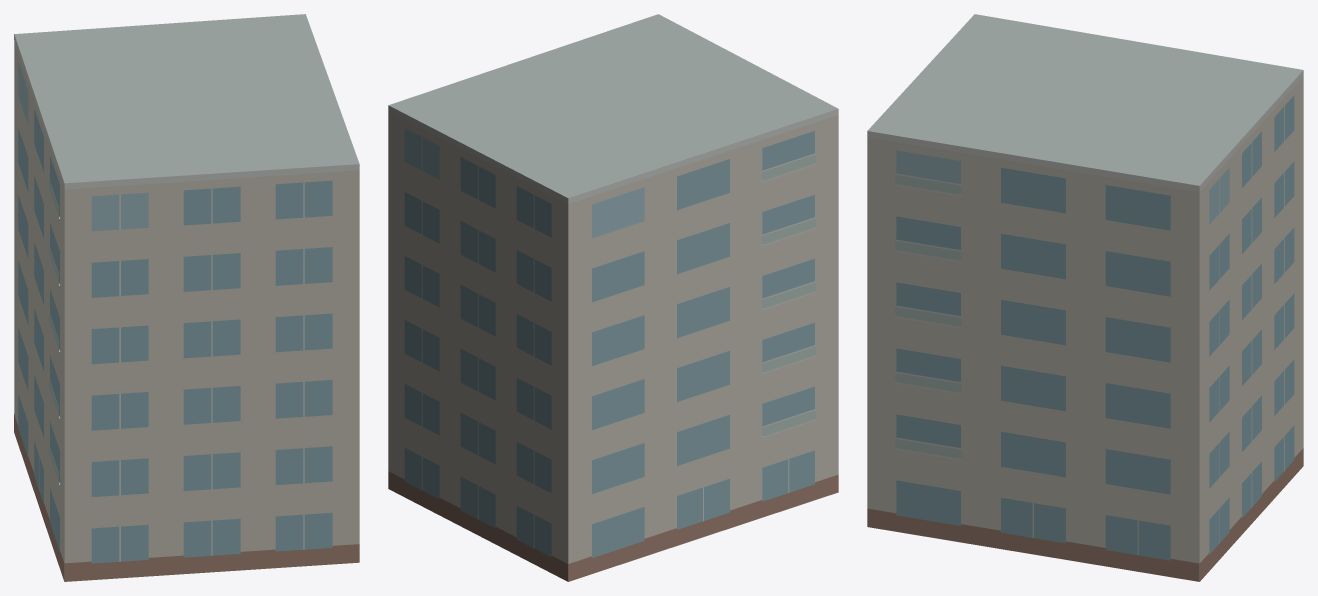
File: survey-upis-32880543.glb
3 views of the same model, side by side, from view 1: azimuth 30°, elevation 25°; view 2: azimuth 150°, elevation 25°; view 3: azimuth 270°, elevation 25° (orthographic). The views are drawn at different scales.
Parts seen in each view (by area): view 1: survey-upis-32880543.tmp; view 2: survey-upis-32880543.tmp; view 3: survey-upis-32880543.tmp.
Part boxes in pixels (box(x1,y1,x2,y2)): survey-upis-32880543.tmp: box(14, 14, 359, 581); survey-upis-32880543.tmp: box(388, 14, 838, 581); survey-upis-32880543.tmp: box(867, 14, 1303, 581).
Size of the model in its own units: 14.72 by 15.8 by 15.79.
